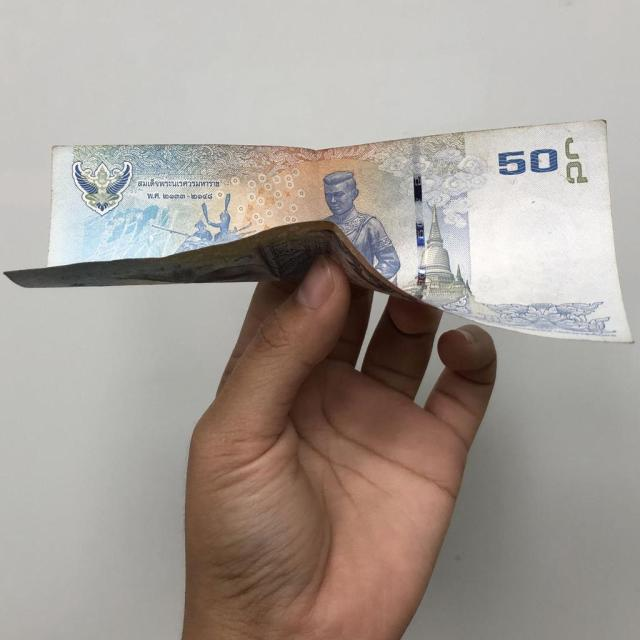THAI50: (5, 121, 631, 342)
